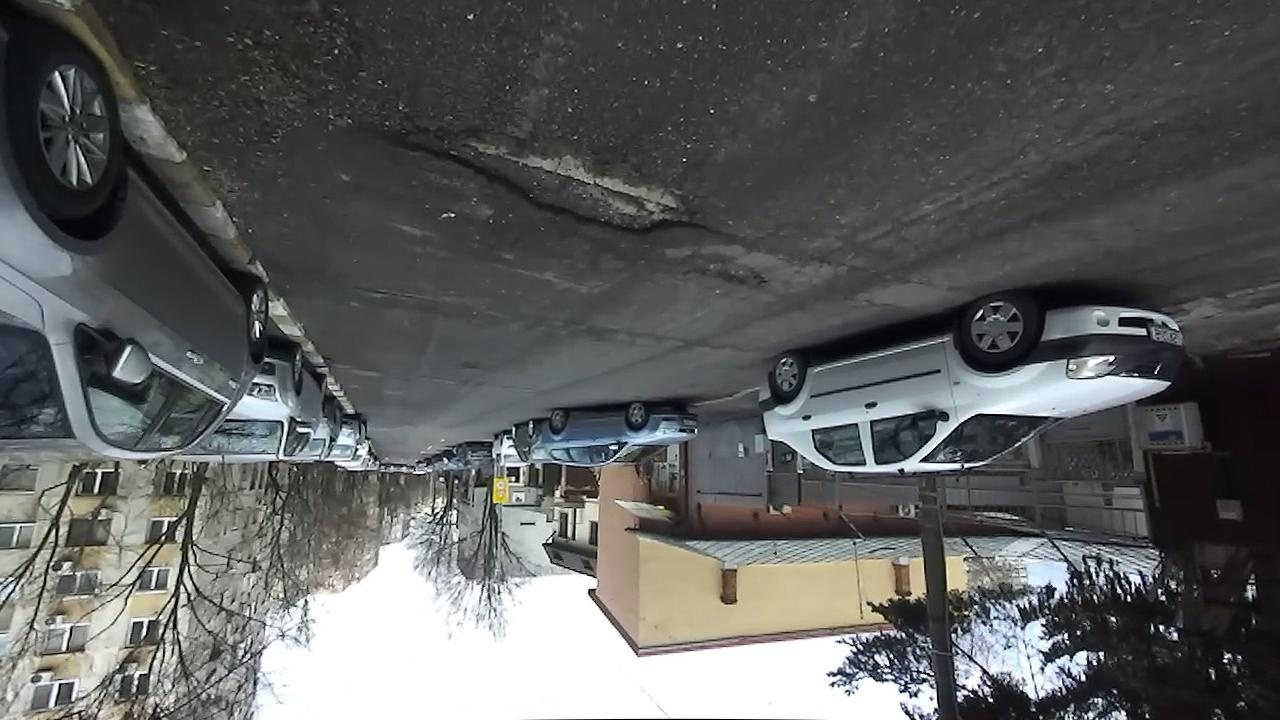pothole: (379, 118, 720, 240), (693, 255, 773, 297), (350, 282, 435, 307)
